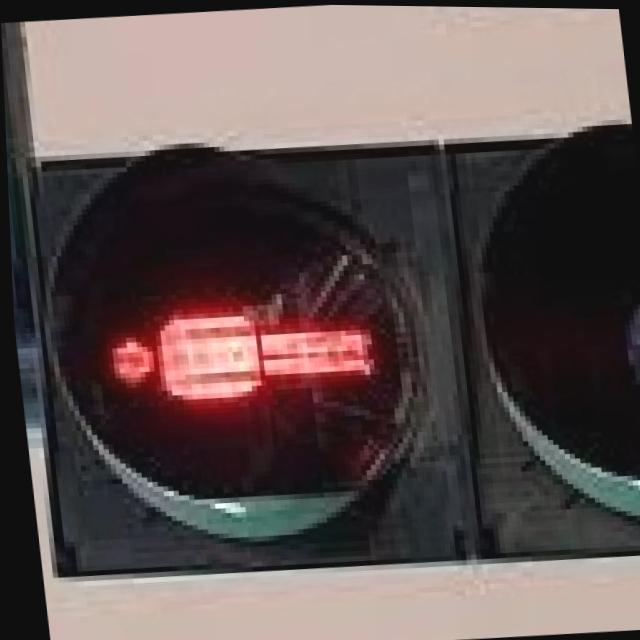red_light: (65, 253, 392, 447)
